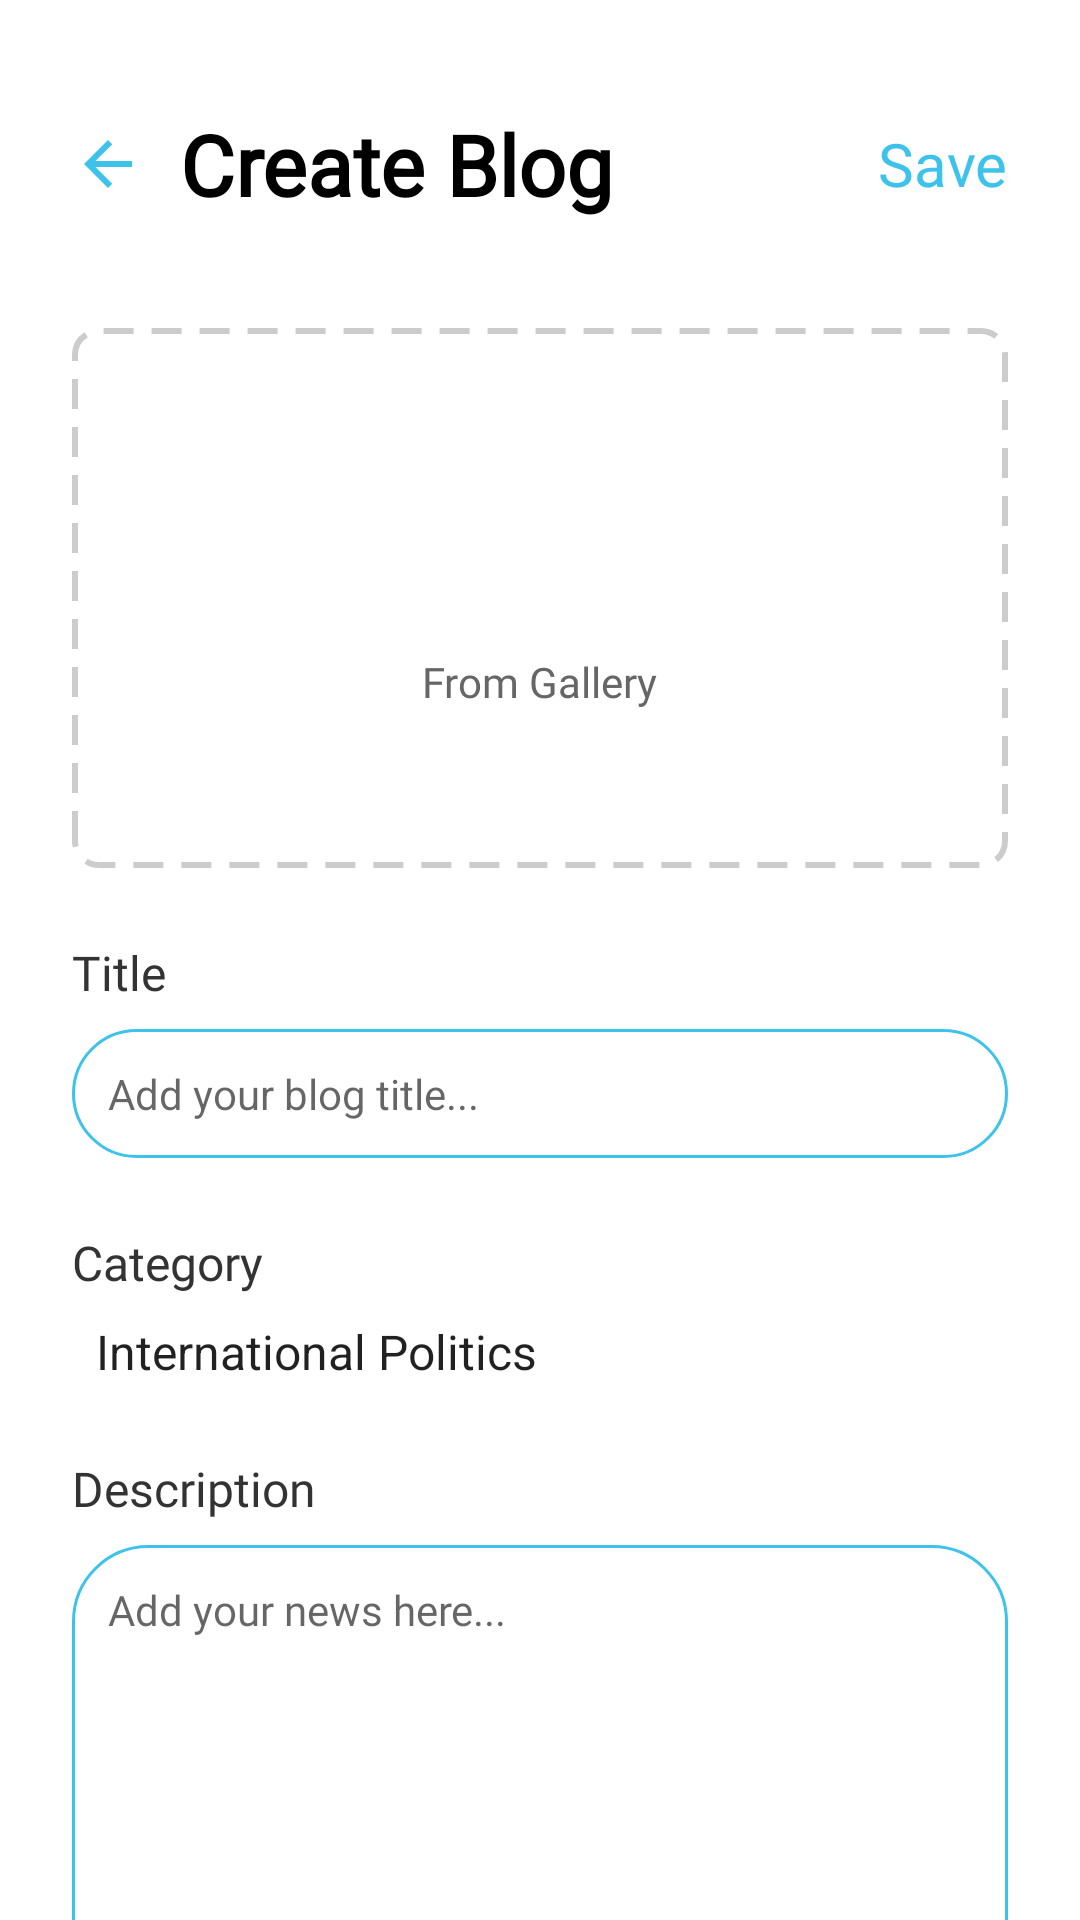

Locate icon controls on the screen. Image size 1080px x 1920px, boxes as (x1, y1, x2, y2).
back: (84, 140, 132, 188)
